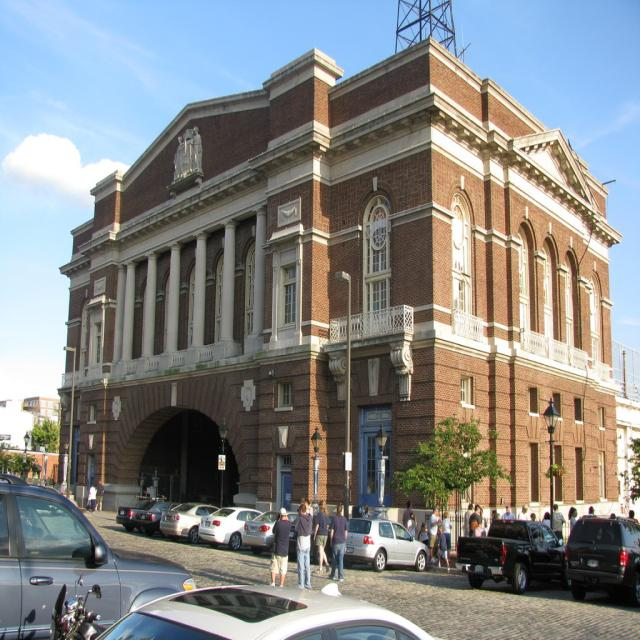car: (0, 465, 194, 638), (95, 579, 438, 639), (116, 488, 304, 557), (560, 512, 632, 605), (344, 516, 429, 567)
